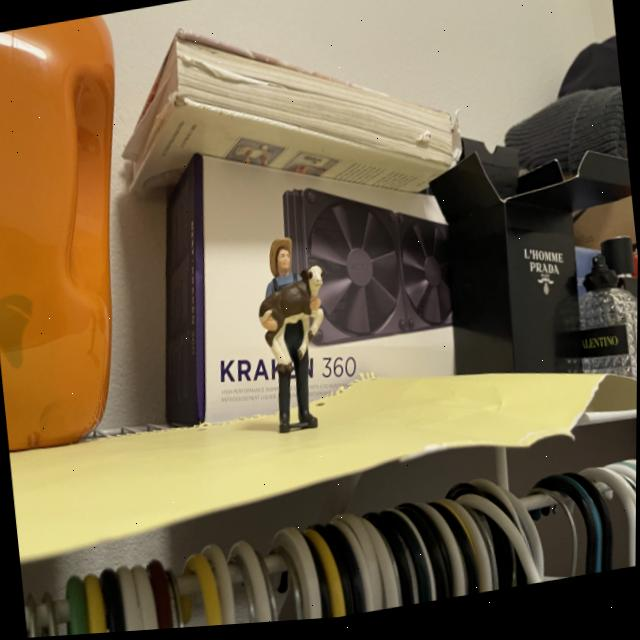cow: (245, 262, 339, 350), (277, 249, 285, 257), (284, 287, 290, 291)
person: (265, 239, 301, 303)
